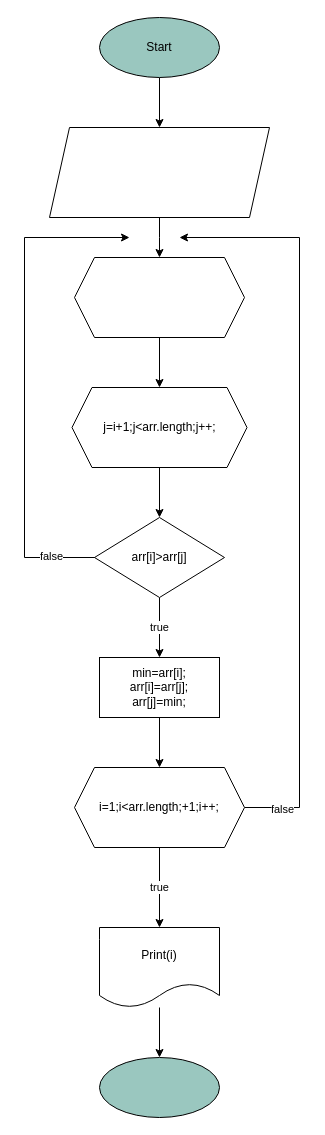
The diagram is 325 pixels wide and 1135 high, and some of its shapes have lost their labels. Here are the shapes that lost their labels. From the top down, the box of each, then its label:
(48, 126, 270, 218): arr=[2,9,4,3,5,1,7]; min=0
(74, 256, 244, 338): i=0;i<=arr.length-1;i++
(98, 1056, 220, 1118): End
